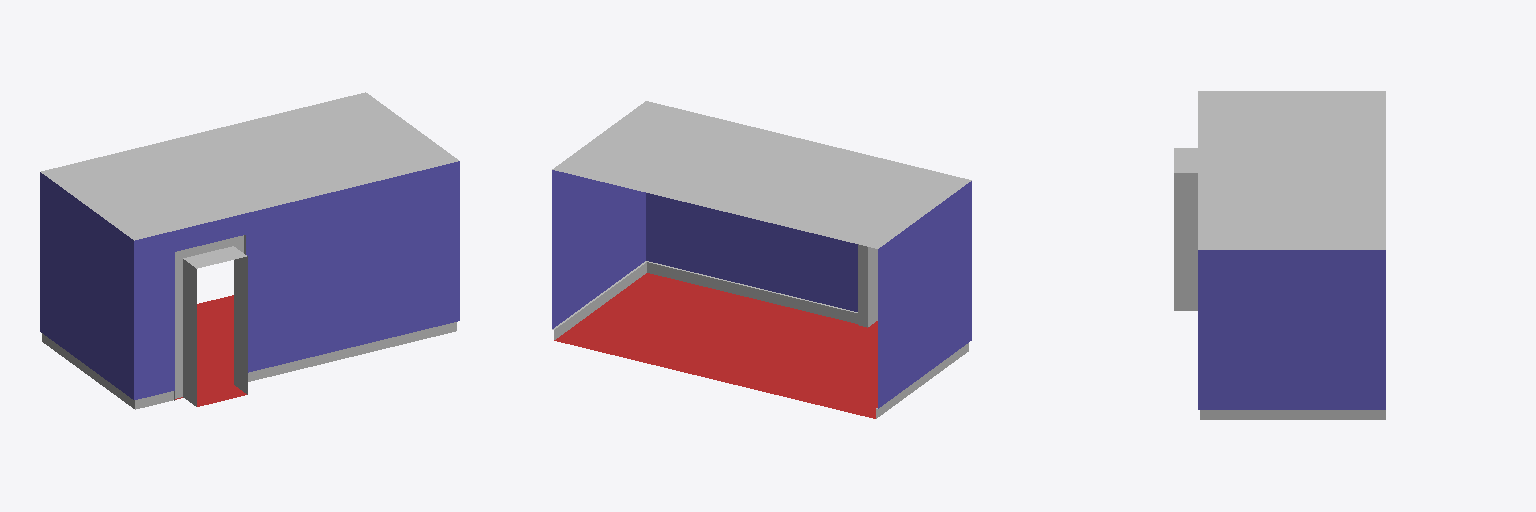
File: room_minigame_01.obj
3 views of the same model, side by side, from view 1: azimuth 30°, elevation 25°; view 2: azimuth 150°, elevation 25°; view 3: azimuth 270°, elevation 25° (orthographic).
Parts seen in each view (by area): view 1: Wall_(4); view 2: Wall_(4); view 3: Wall_(4).
Part boxes in pixels (bbox=[...]): Wall_(4): bbox=[40, 92, 459, 409]; Wall_(4): bbox=[552, 101, 971, 418]; Wall_(4): bbox=[1174, 91, 1385, 419].
Size of the model in its own units: 16 by 8 by 9.